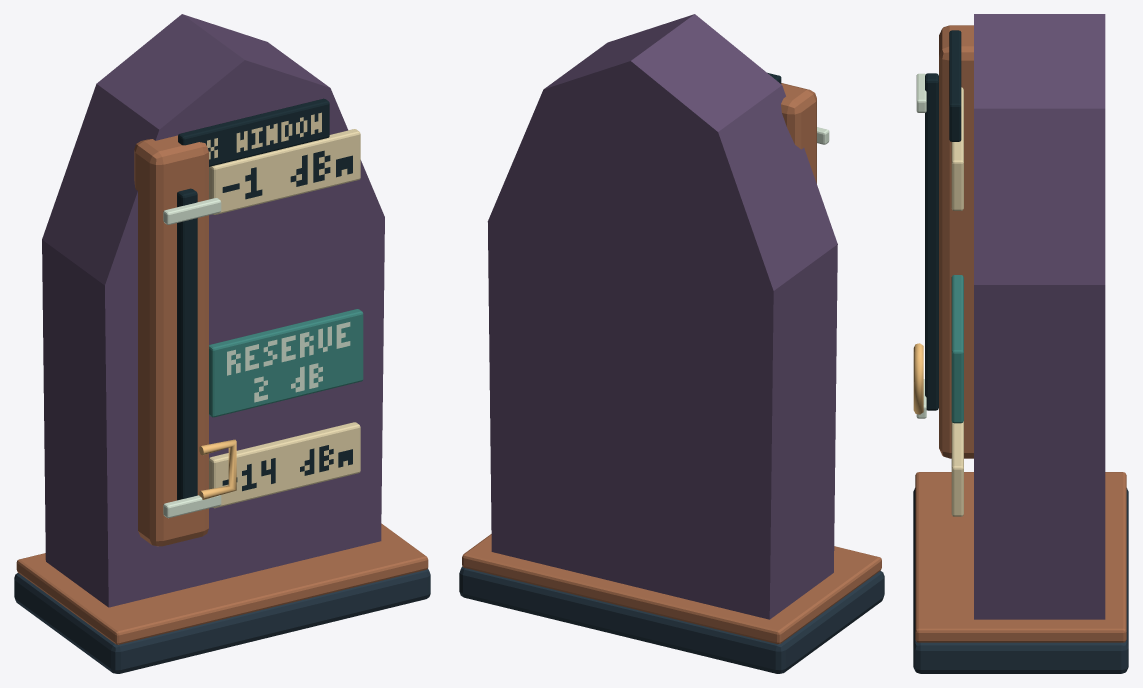
The picture shows the model from 3 angles, left to right: view 1: azimuth 30°, elevation 25°; view 2: azimuth 150°, elevation 25°; view 3: azimuth 270°, elevation 25°; orthographic projection. The views are drawn at different scales.
Parts seen in each view (by area): view 1: PR057 enamel and hardware; view 2: PR057 enamel and hardware; view 3: PR057 enamel and hardware.
Part boxes in pixels (left/top/right/bottom): PR057 enamel and hardware: left=14, top=14, right=430, bottom=673; PR057 enamel and hardware: left=459, top=14, right=884, bottom=673; PR057 enamel and hardware: left=913, top=14, right=1128, bottom=673.
Bounding box in the file's own units: 0.8679 × 1.45 × 0.4869.
